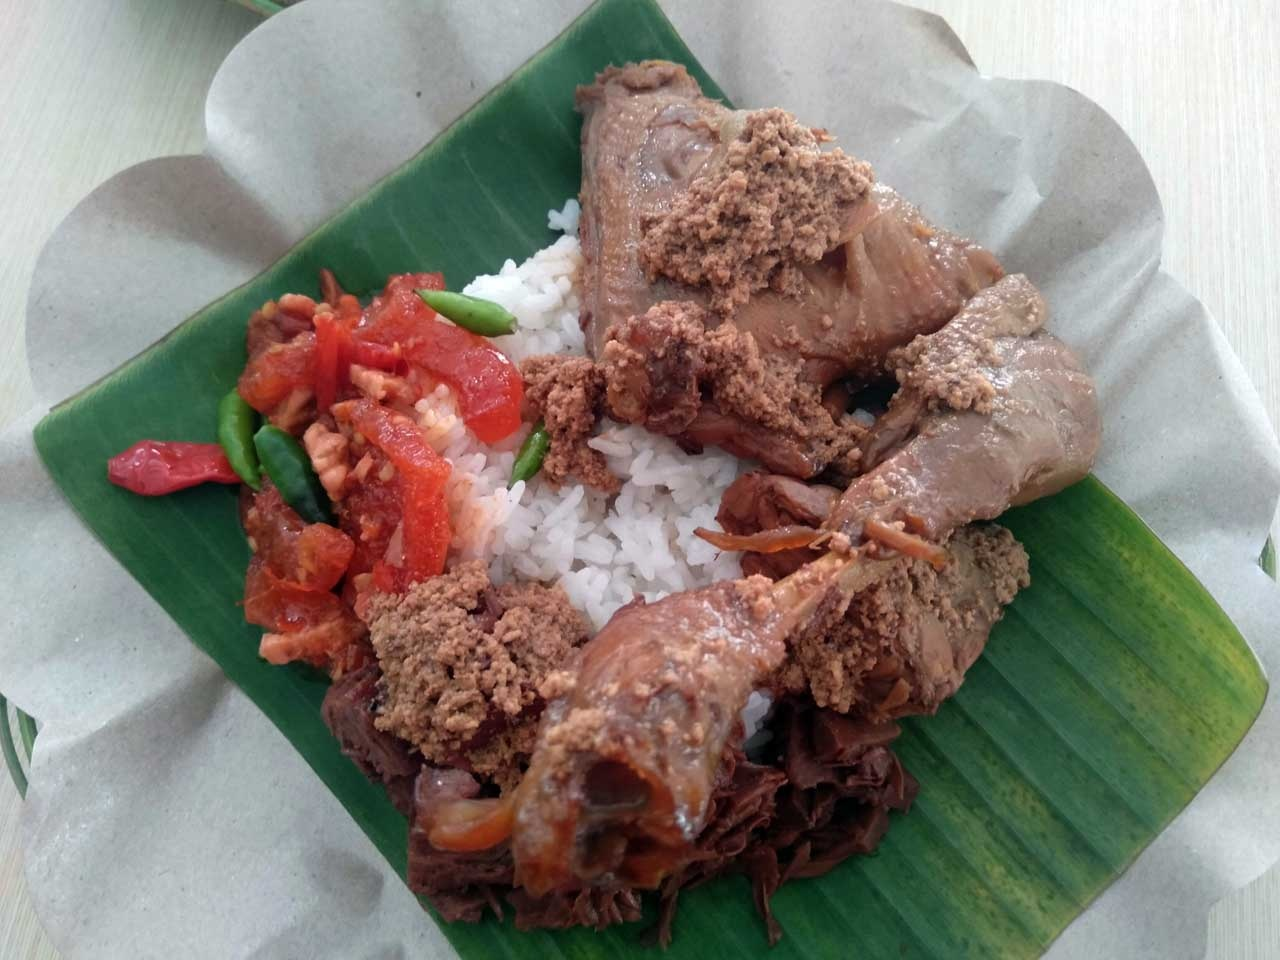gudeg: (227, 122, 1045, 895)
